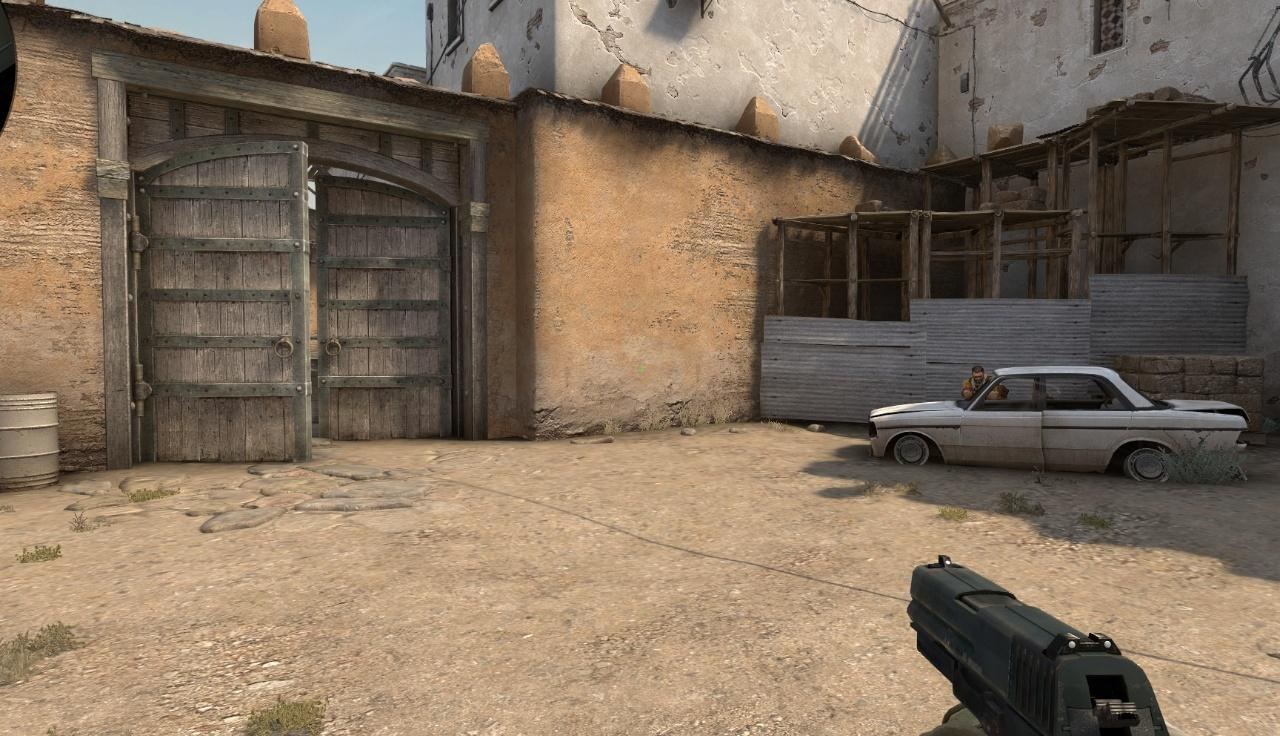pistol: (907, 555, 1203, 736)
tt: (962, 365, 1008, 401)
tthead: (972, 365, 985, 383)
